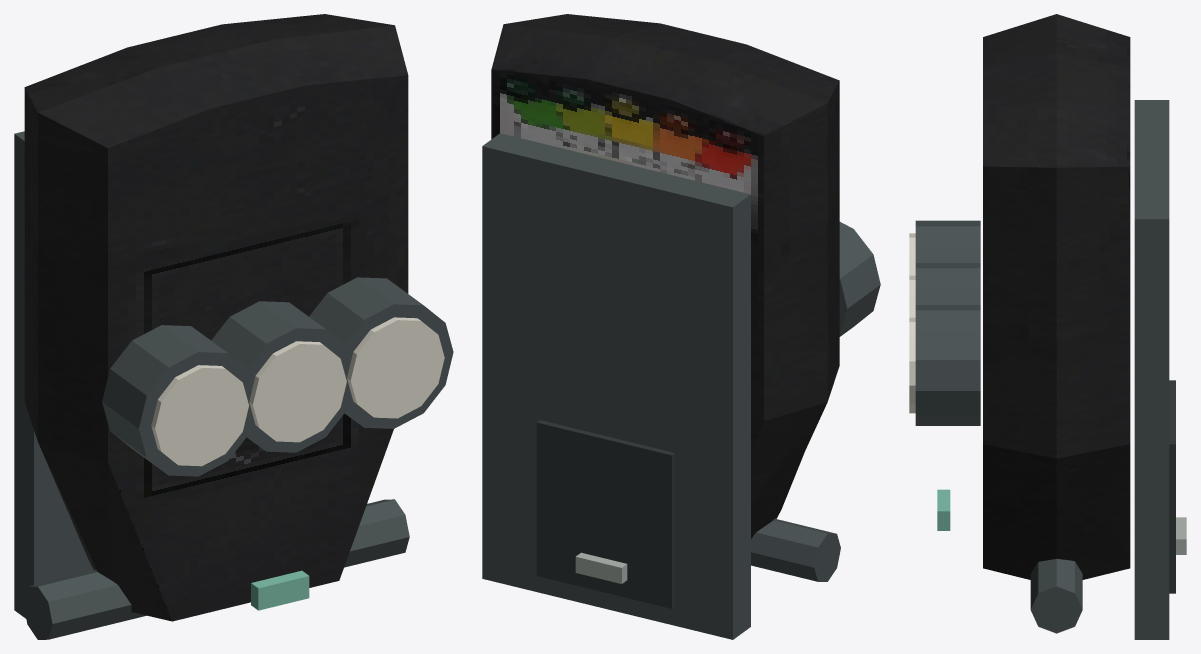
The model's file is blender_motion_sensor_3.glb.
3 views of the same model, side by side, from view 1: azimuth 30°, elevation 25°; view 2: azimuth 150°, elevation 25°; view 3: azimuth 270°, elevation 25° (orthographic). The views are drawn at different scales.
Parts seen in each view (by area): view 1: blender_motion_sensor_3; view 2: blender_motion_sensor_3; view 3: blender_motion_sensor_3.
Boxes of the visible parts, left/top/right/bottom form: blender_motion_sensor_3: left=14, top=14, right=453, bottom=639; blender_motion_sensor_3: left=482, top=14, right=880, bottom=639; blender_motion_sensor_3: left=909, top=14, right=1186, bottom=639.
Bounding box in the file's own units: 0.084 × 0.128 × 0.064.
Materials: 1 (1 with a texture image).
